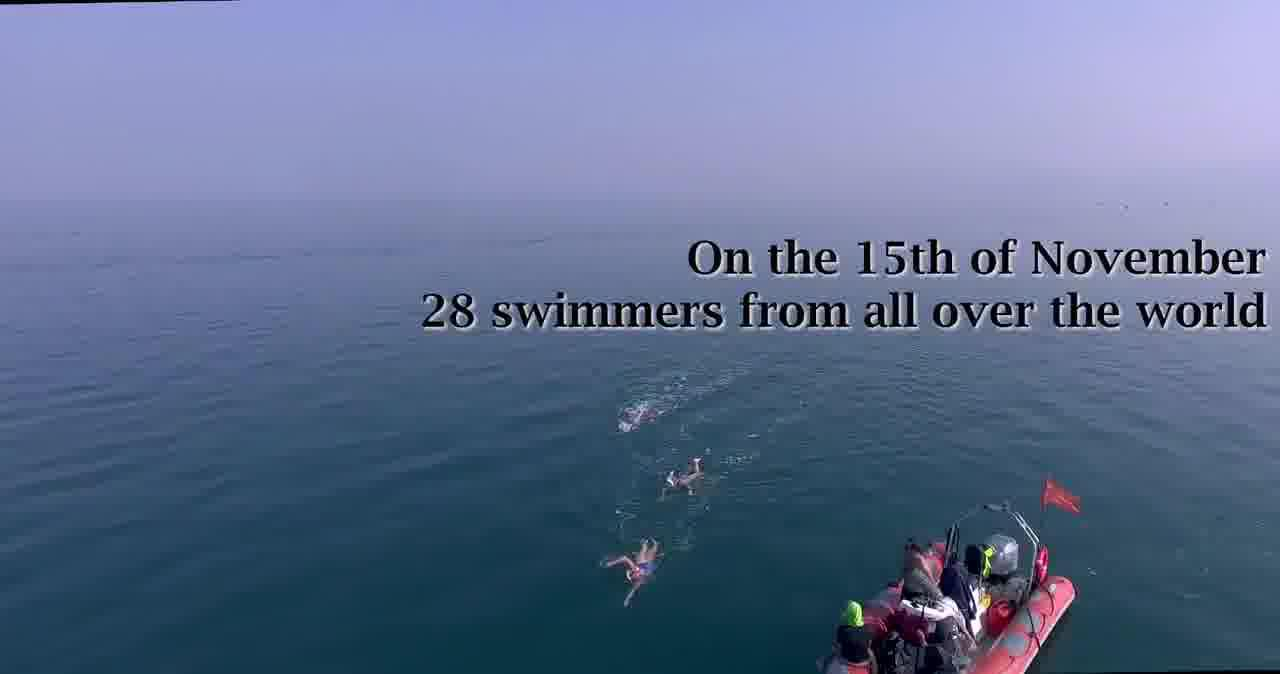swimmer: (599, 525, 662, 605), (661, 454, 706, 500)
